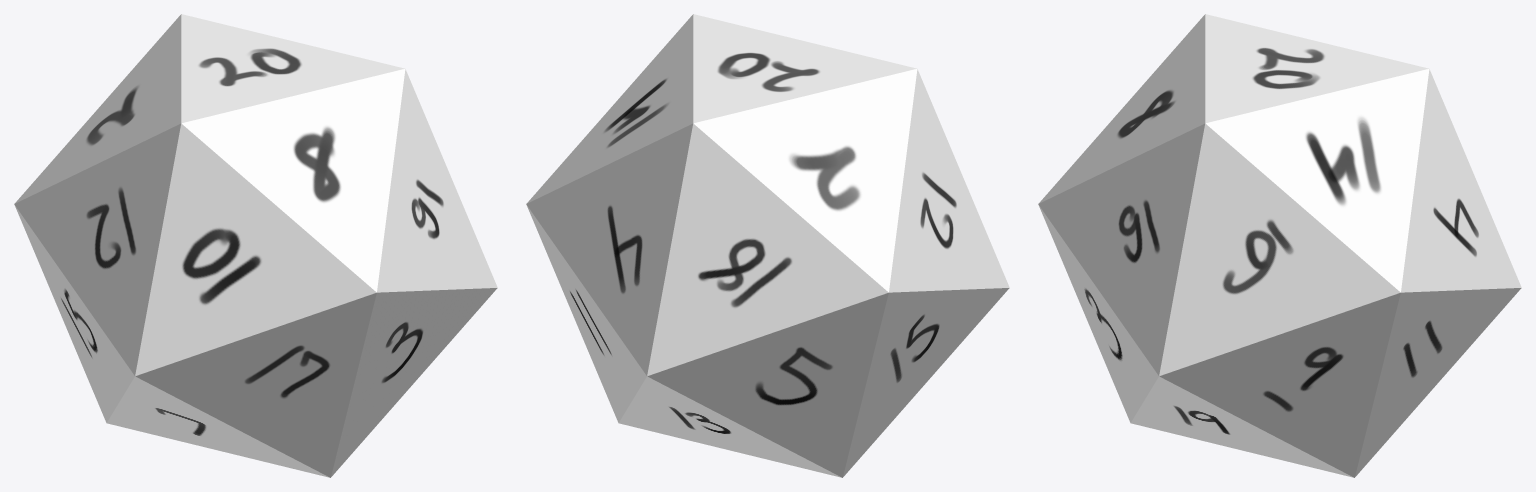
The picture shows the model from 3 angles, left to right: view 1: azimuth 30°, elevation 25°; view 2: azimuth 150°, elevation 25°; view 3: azimuth 270°, elevation 25°; orthographic projection.
Parts seen in each view (by area): view 1: d20; view 2: d20; view 3: d20.
Boxes of the visible parts, box(x1,y1,x2,y2) form: d20: box(14, 14, 497, 477); d20: box(526, 14, 1009, 477); d20: box(1038, 14, 1521, 477).
Bounding box in the file's own units: 2.13 × 1.99 × 2.46.
Materials: 1 (1 with a texture image).
